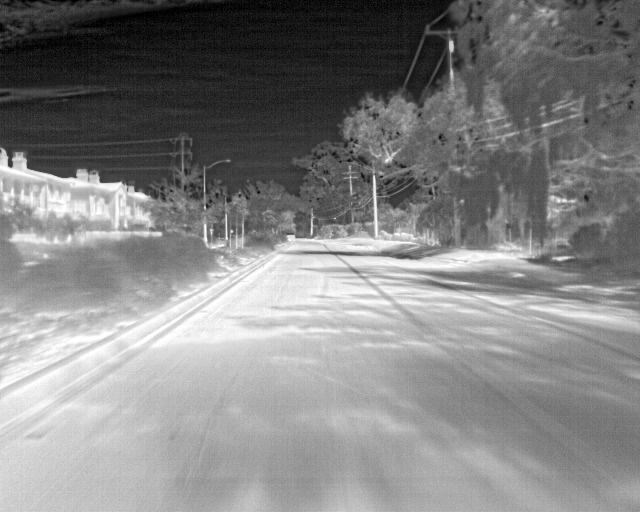car: (285, 234, 297, 246)
